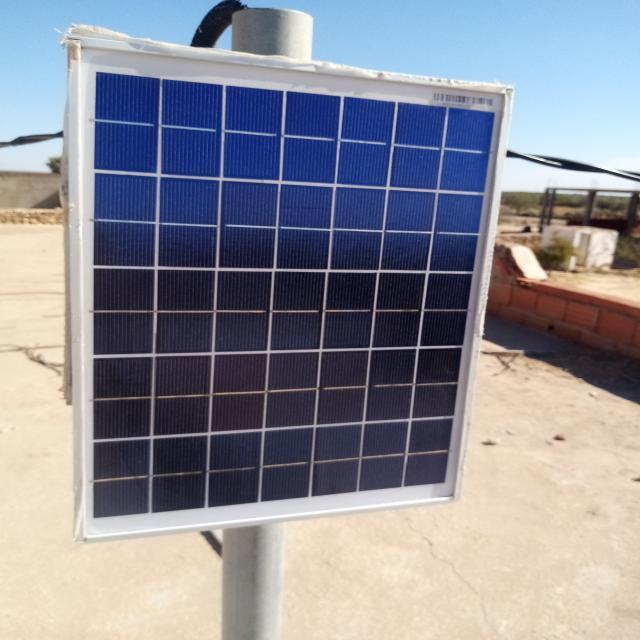no faulty: (70, 37, 513, 542)
